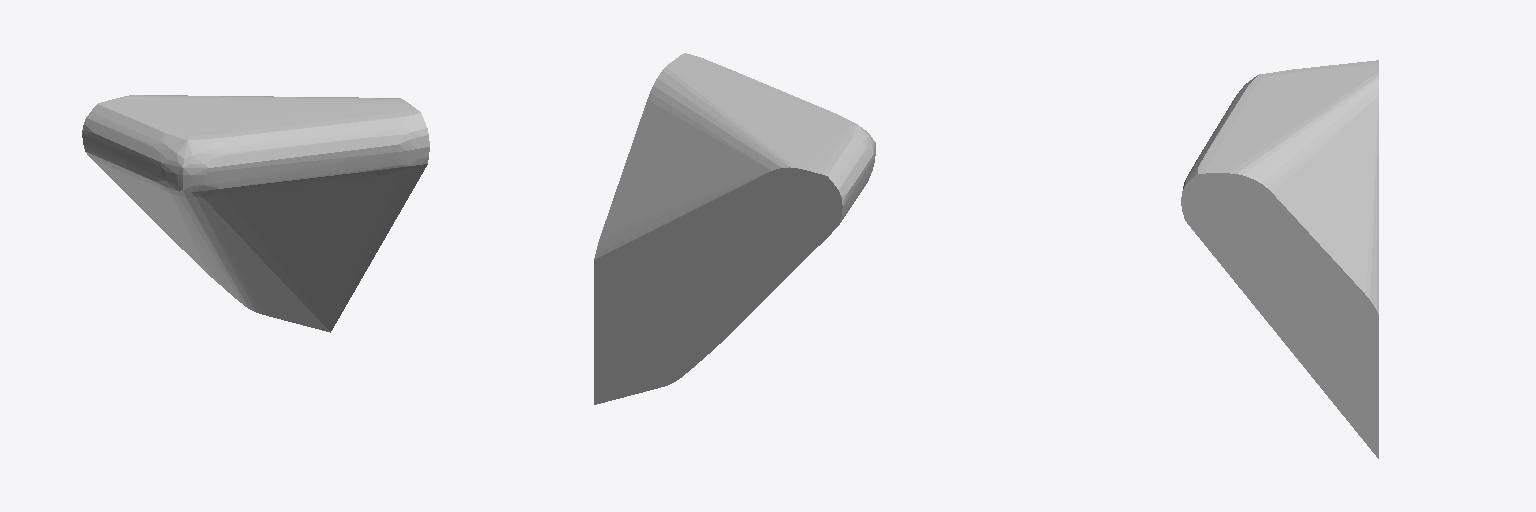
Rendered from Bowl_21_collision_20.obj.
The picture shows the model from 3 angles: view 1: azimuth 30°, elevation 25°; view 2: azimuth 150°, elevation 25°; view 3: azimuth 270°, elevation 25°; orthographic projection.
Bounding box in the file's own units: 0.0589 × 0.0648 × 0.0407.